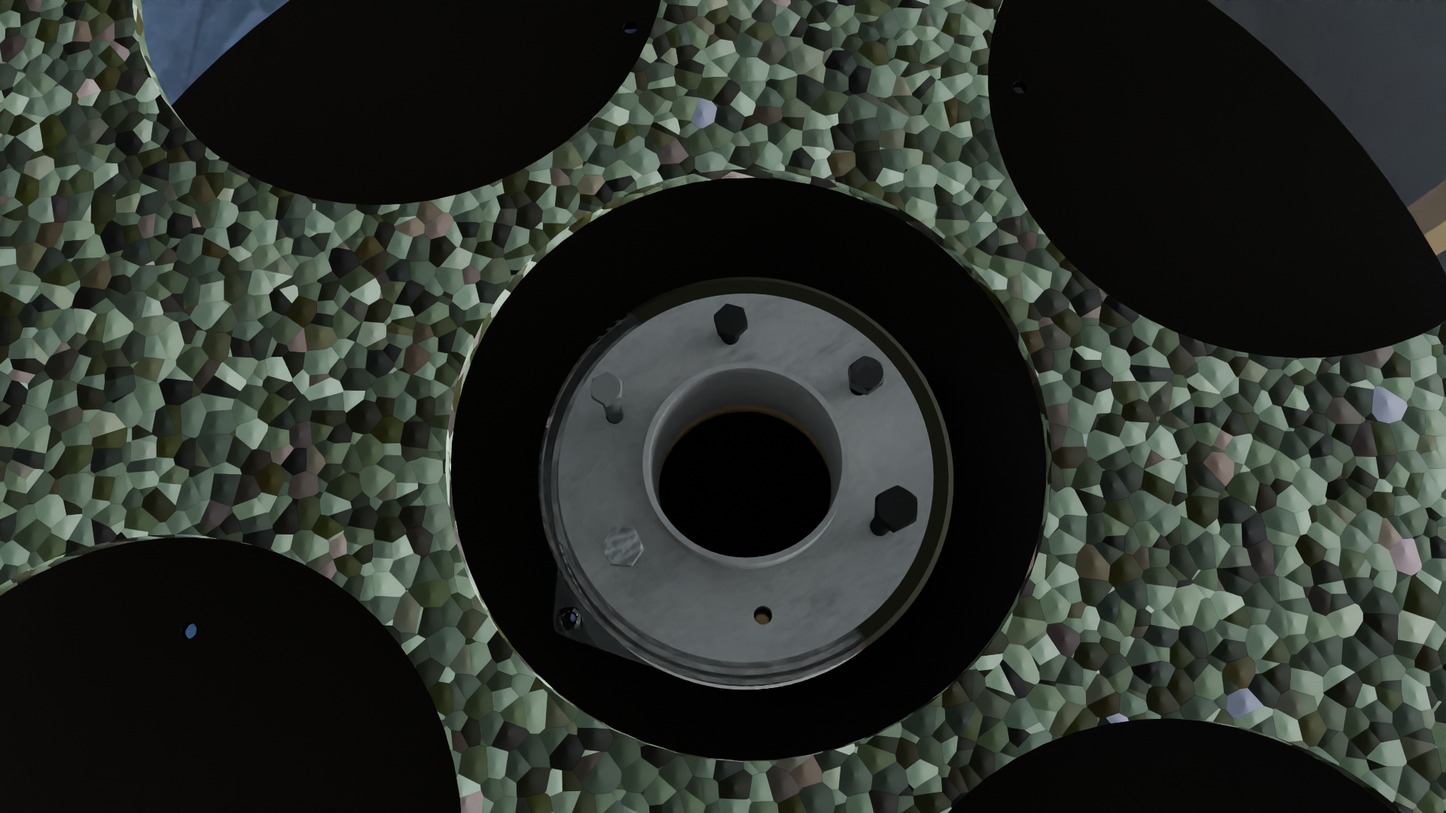bolt: (877, 485, 917, 531), (601, 527, 643, 565), (850, 356, 884, 391), (714, 303, 748, 336), (590, 372, 621, 404)
